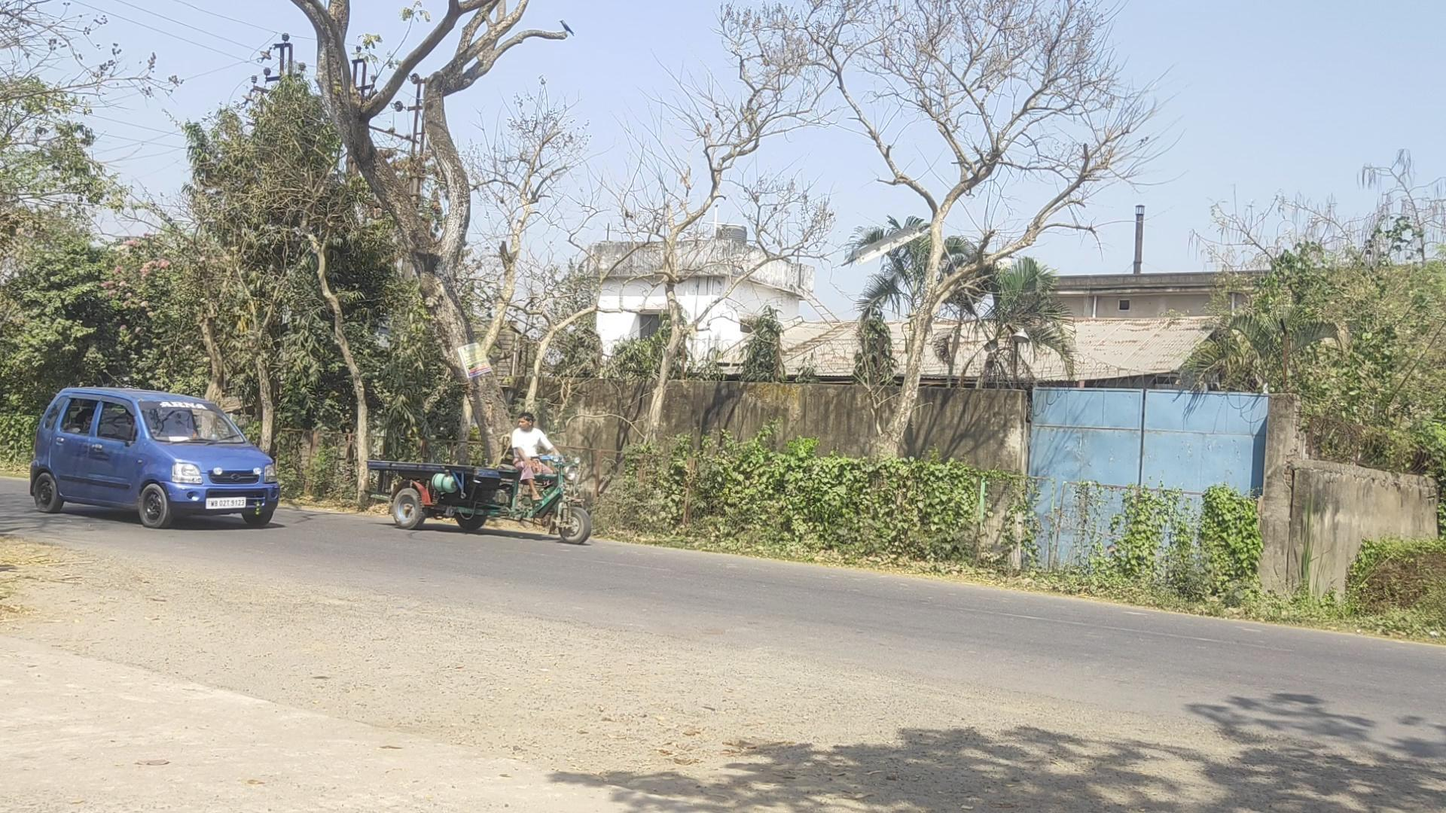car: (29, 386, 279, 529)
